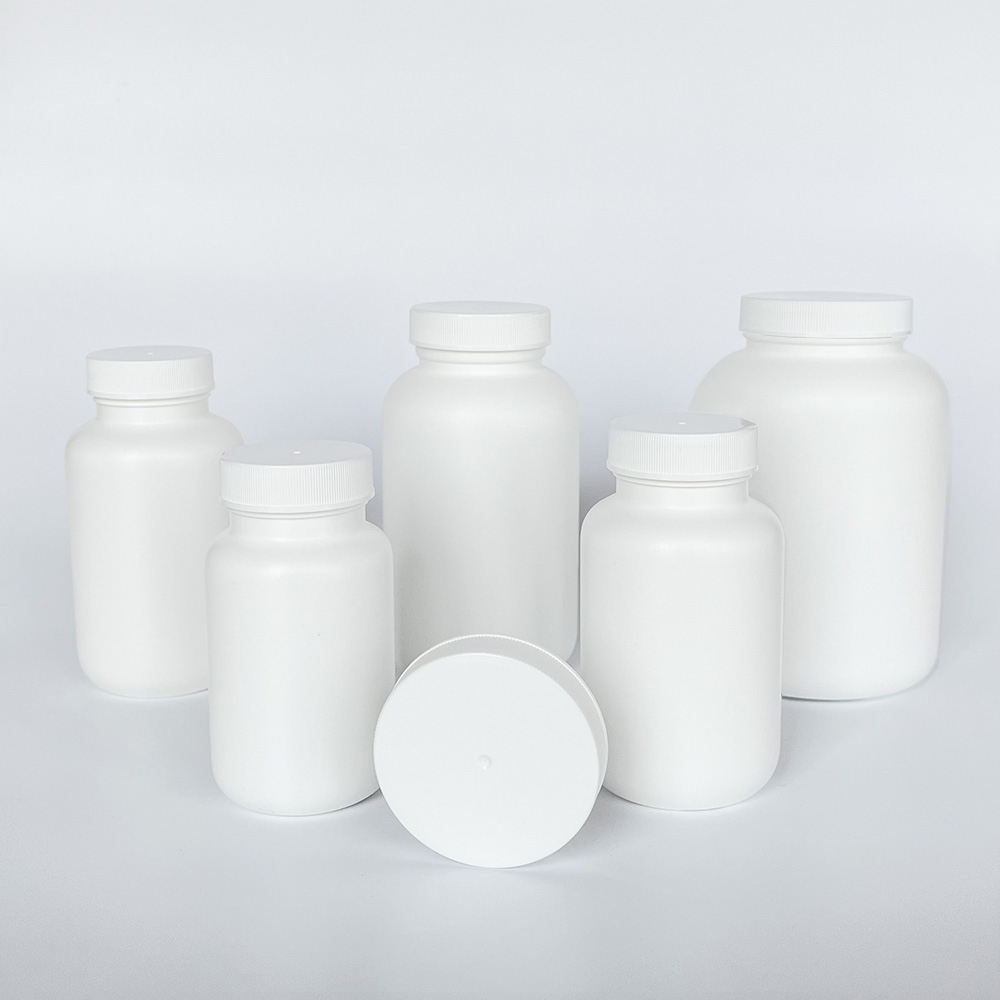medicinejar: (677, 280, 962, 713), (376, 268, 599, 727), (564, 388, 804, 802), (51, 312, 256, 702), (207, 453, 409, 808)
